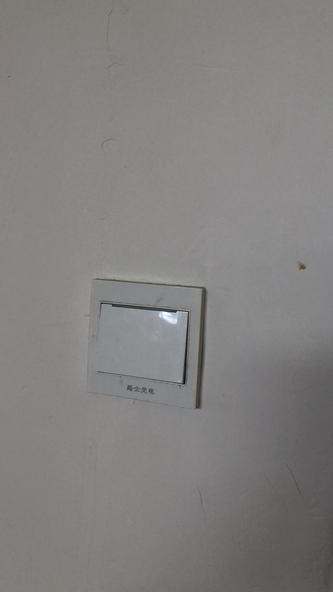switch: (91, 293, 200, 388)
